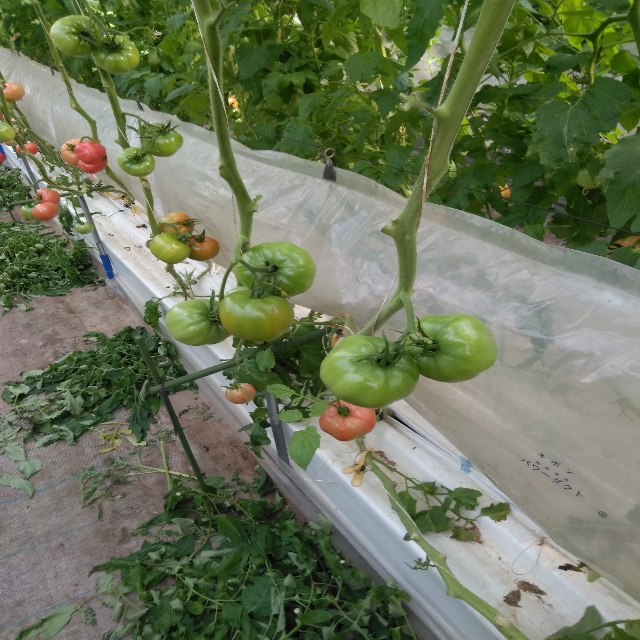b_fully_ripened: (74, 141, 108, 174), (16, 142, 38, 156)
b_green: (320, 335, 419, 408), (401, 314, 499, 383), (235, 241, 317, 298), (218, 291, 295, 342), (164, 298, 232, 346), (50, 15, 100, 57), (94, 35, 140, 75), (140, 123, 184, 157), (149, 232, 191, 265), (118, 147, 155, 177), (20, 202, 40, 220), (1, 122, 16, 142), (75, 222, 94, 234)
b_half_ripened: (319, 399, 377, 442), (158, 212, 195, 239), (184, 235, 220, 261), (60, 138, 90, 166), (225, 383, 256, 404), (31, 202, 60, 221), (33, 188, 61, 206), (2, 82, 25, 102)
